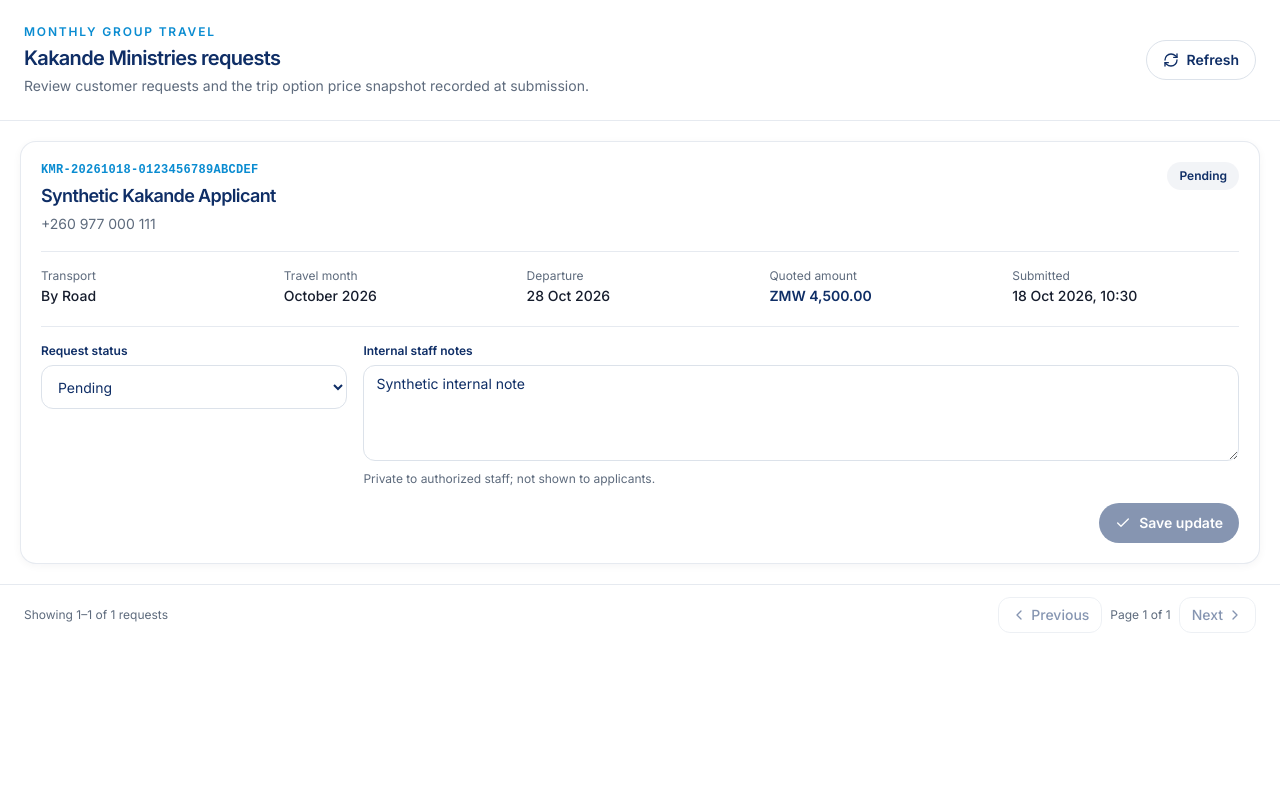
Test: admin Kakande request list › shows a safe error and keeps the previous status when the update RPC fails
Expected: the text "KMR-20261018-0123456789ABCDEF" is shown, [41,162,276,178]
Select "Approved by Luskam" in the dropdown named "Request status for KMR-20261018-0123456789ABCDEF" at (194, 387), box [41,365,347,409]
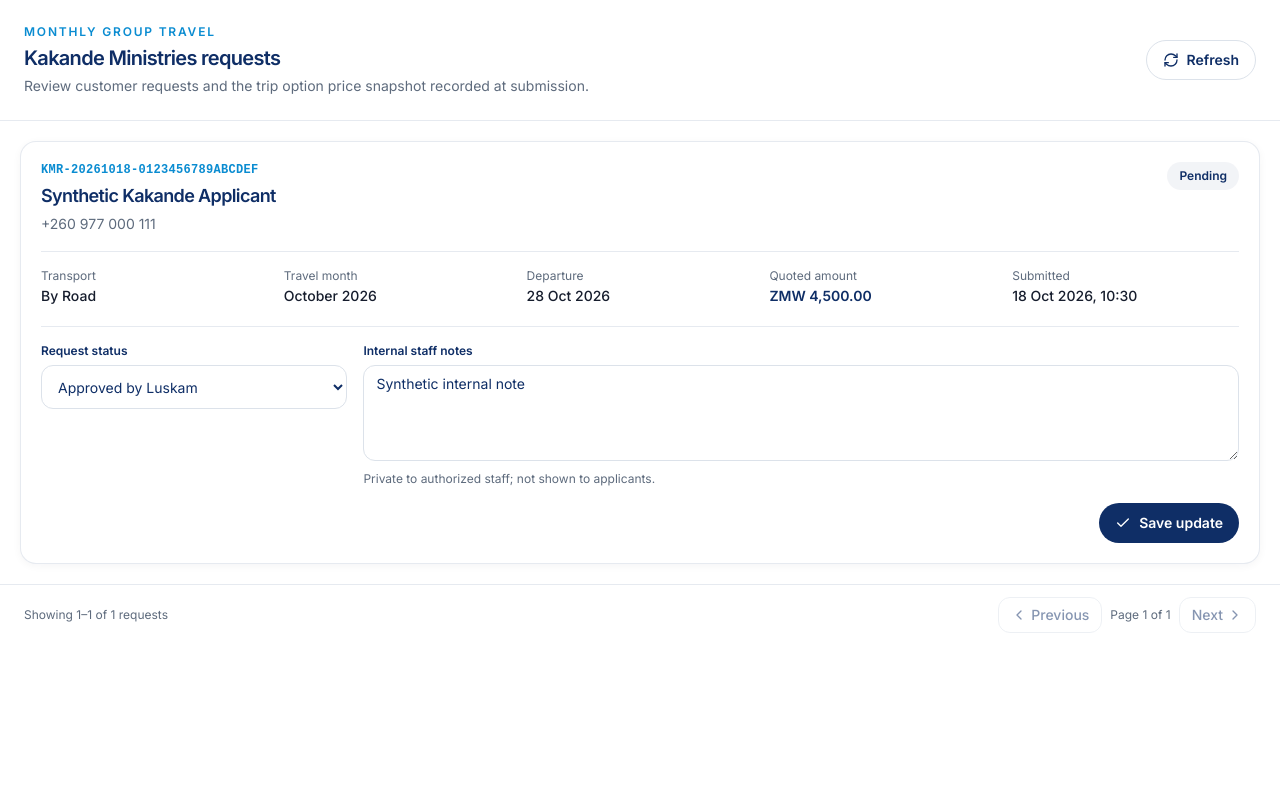
Click the button "Save update".
click(1169, 523)  # box [1099,503,1239,543]
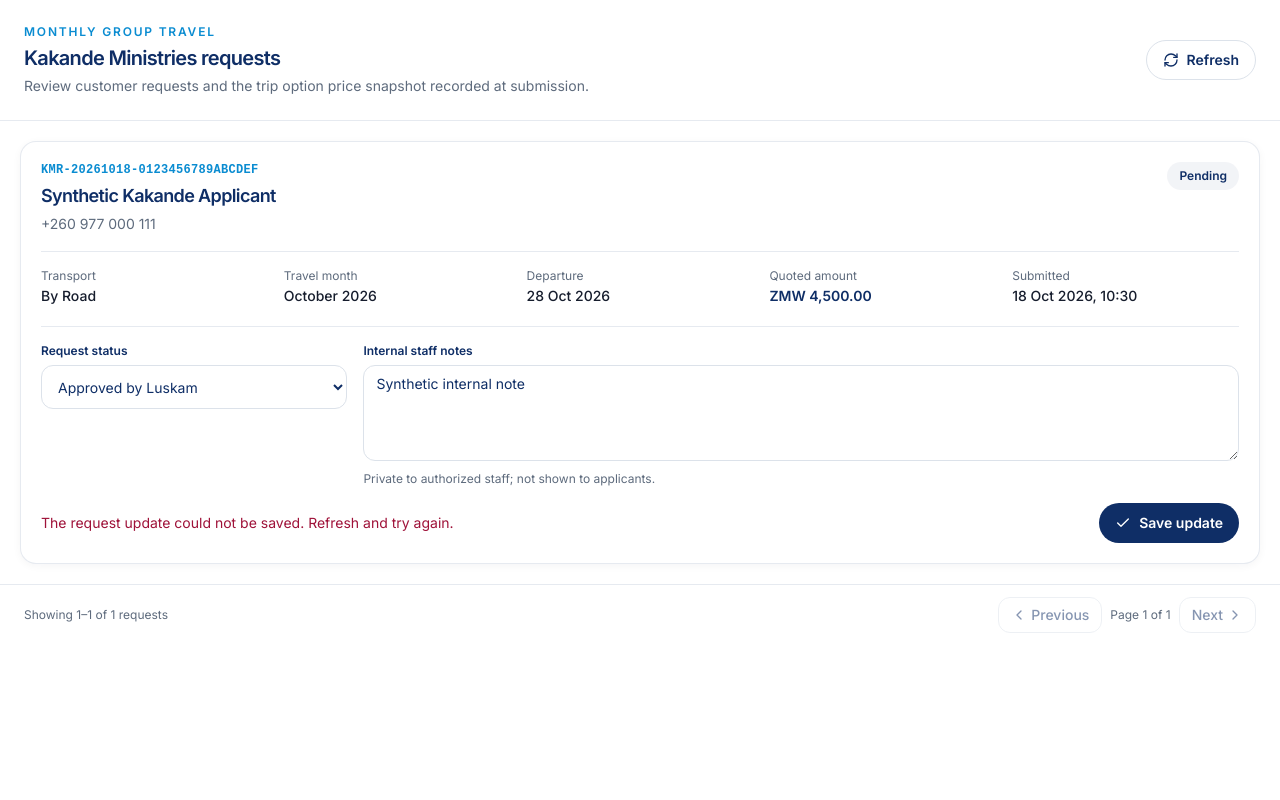
Result: the message shows "The request update could not be saved" at [41,514,454,531]
